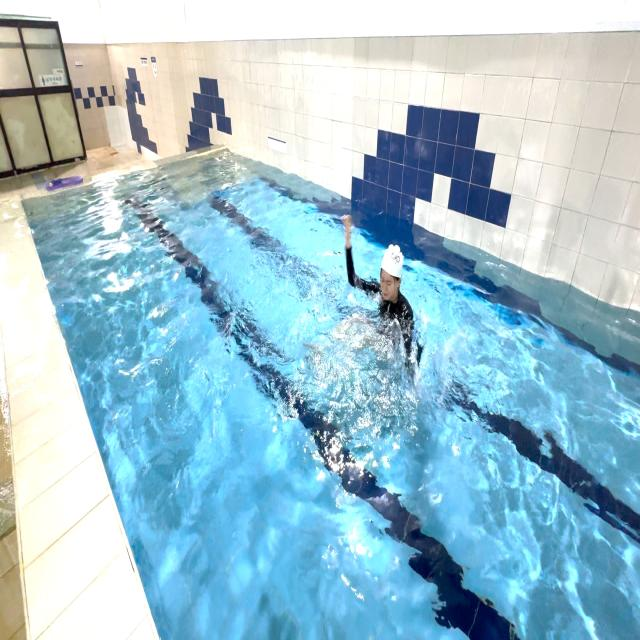Drowning: (343, 213, 423, 387)
